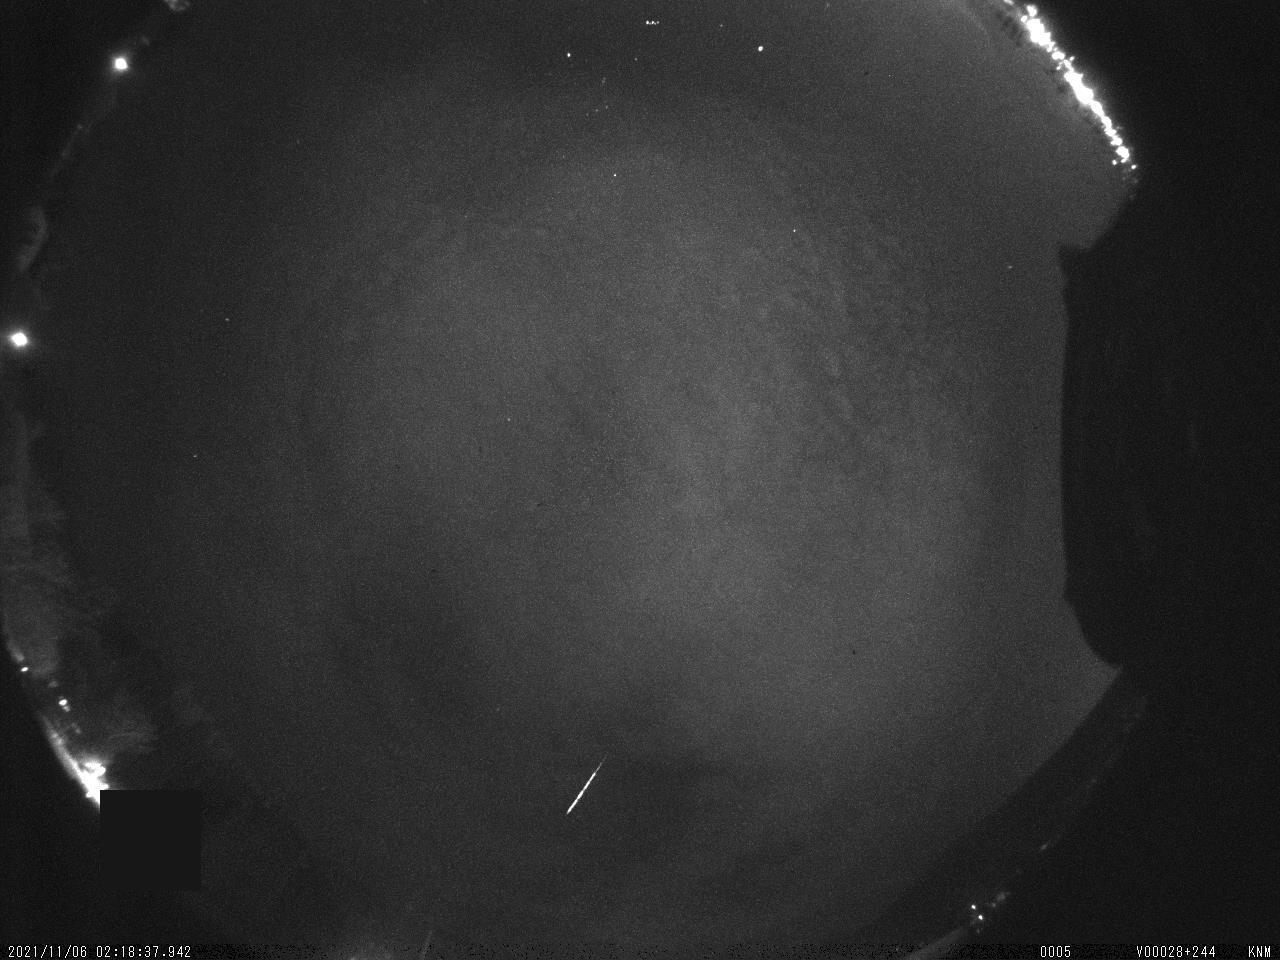Meteor: (562, 755, 607, 816)
